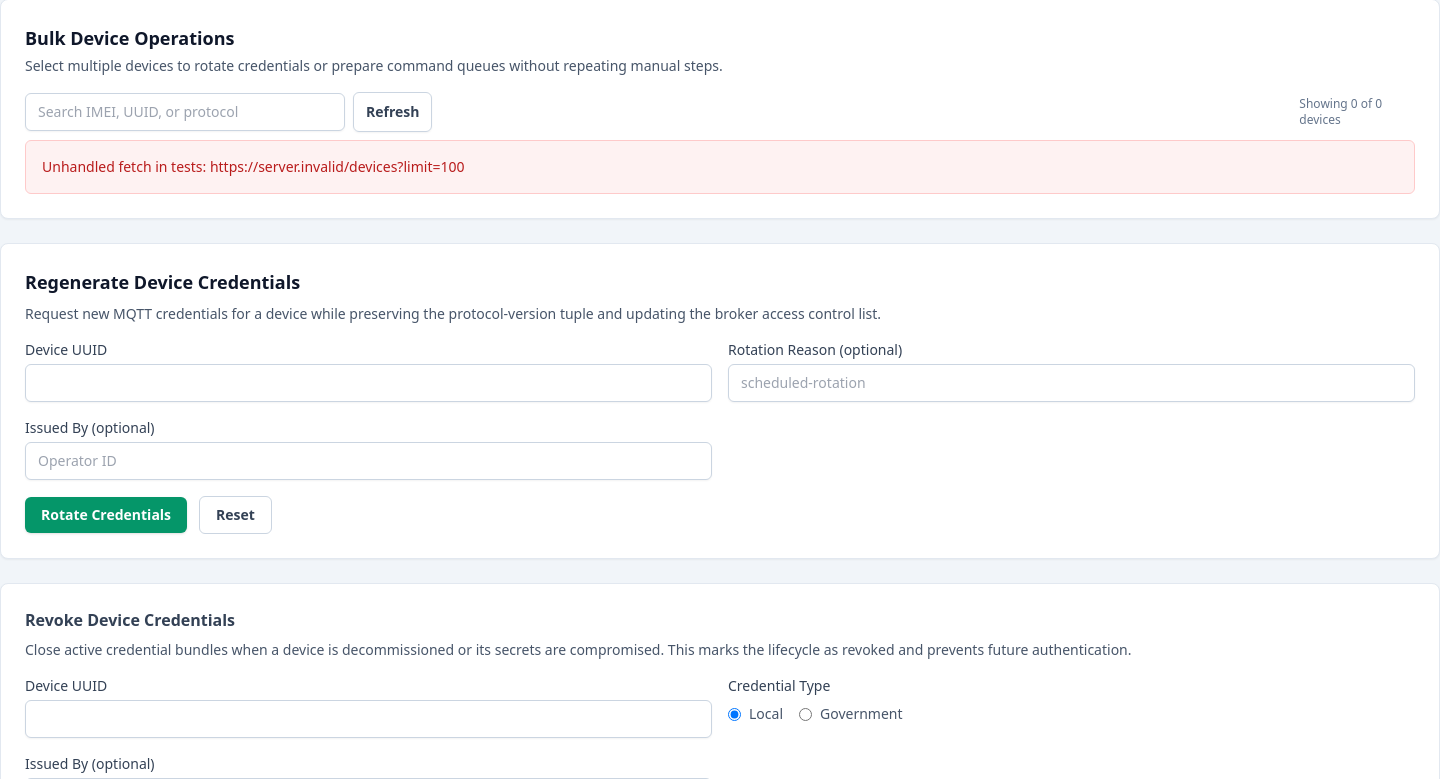
Test case: DeviceConfigurationPage credential rotation › renders credential history records returned from the device status endpoint
In the field labelled "Device UUID" below "Rotation Reason (optional)": (368, 383) [25,364,712,402], type "device-uuid-1"
(page scrolled)
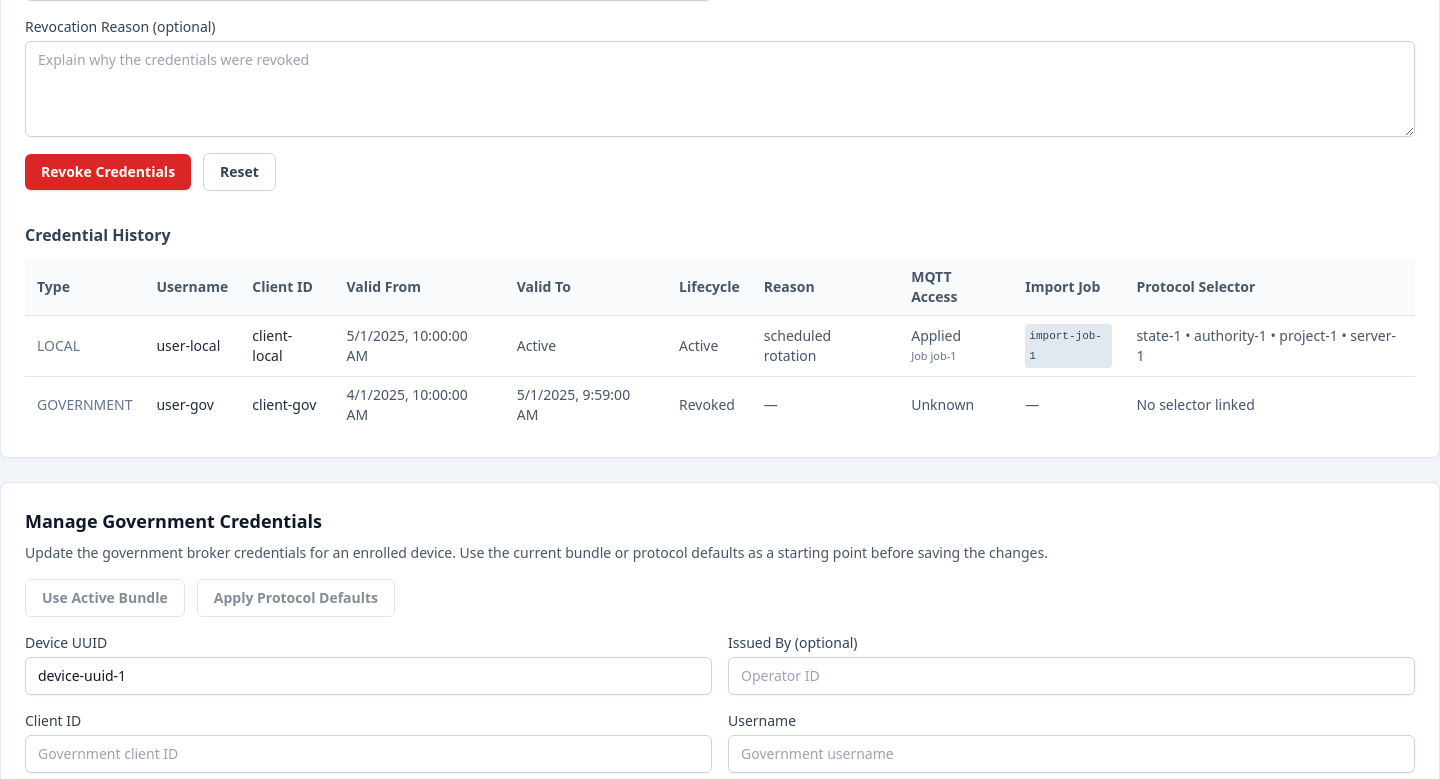
Now the number of rows is 3, box [25,259,1415,316]; [25,316,1415,376]; [25,376,1415,433]
Now the row that starts with "local" is shown, box [37,336,80,355]
Now the row that starts with "local" shows "client-local", box [252,326,292,365]
